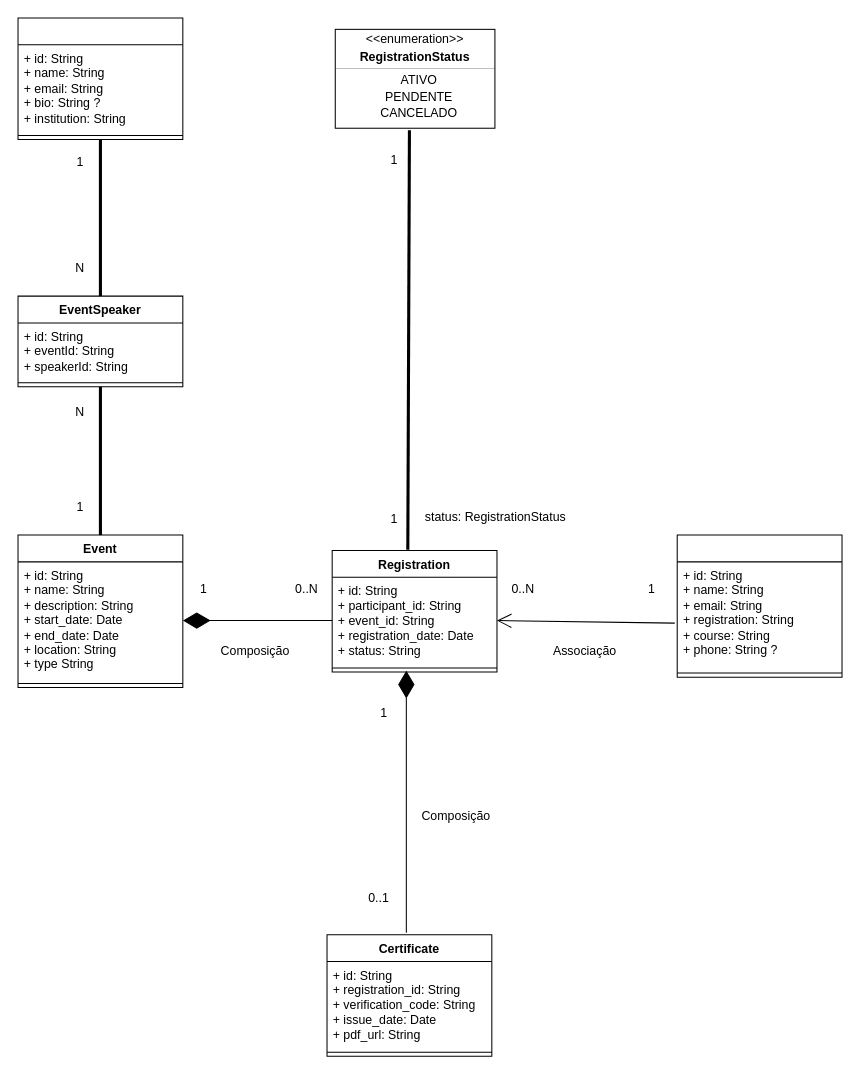
The diagram is 860 pixels wide and 1074 high, and some of its shapes have lost their labels. Each missing label, with the box of its shape:
Participant: (676, 534, 842, 677)
Speaker: (17, 17, 183, 140)
